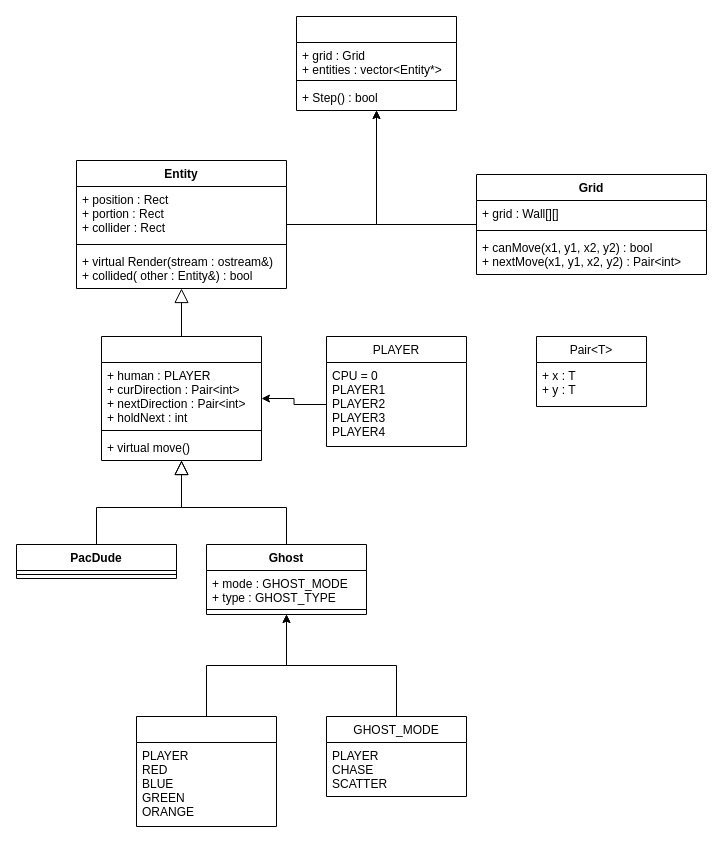
This 723x843 diagram has some shape labels left out. The box of each missing label's shape, as (x1, y1, x2, y2) in pixels:
Character: (100, 336, 262, 460)
Game: (296, 16, 456, 110)
GHOST_TYPE: (136, 716, 276, 826)
